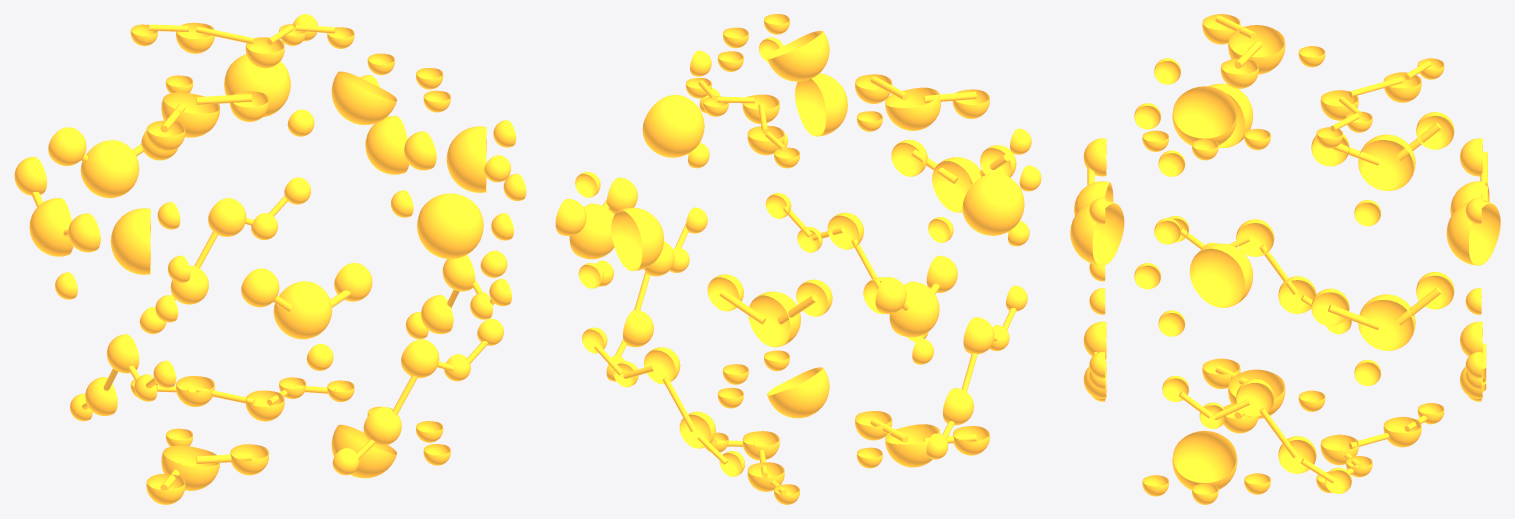
File: goldore.fbx
The picture shows the model from 3 angles, left to right: view 1: azimuth 30°, elevation 25°; view 2: azimuth 150°, elevation 25°; view 3: azimuth 270°, elevation 25°; orthographic projection. The views are drawn at different scales.
Parts seen in each view (by area): view 1: Sphere__9__4, Sphere__1__1, Sphere__1__5, Sphere__9__2, Sphere__9_, Sphere__9__1, Sphere__9__3, Sphere__1__4, Sphere__1__2, Sphere__9__5, Sphere__1__6, Sphere__1__3 (+30 smaller); view 2: Sphere__9__3, Sphere__9__1, Sphere__9_, Sphere__9__4, Sphere__9__2, Sphere__9__5, Sphere__1__1, Sphere__1__2, Sphere__1__3, Sphere__1__4, Sphere__1__5, Sphere__1__6 (+25 smaller); view 3: Sphere__9__3, Sphere__9__2, Sphere__9__5, Sphere__9_, Sphere__9__4, Sphere__1__2, Sphere__1__4, Sphere__1__3, Sphere__9__1, Sphere__6__3, Sphere__6__1, Sphere__1__6 (+38 smaller).
Boxes of the visible parts, x1,y1,x2,y2 form: Sphere__9__4: [417, 193, 483, 259]; Sphere__1__1: [80, 140, 139, 198]; Sphere__1__5: [273, 281, 332, 339]; Sphere__9__2: [331, 71, 396, 124]; Sphere__9_: [224, 54, 290, 117]; Sphere__9__1: [110, 208, 150, 274]; Sphere__9__3: [446, 126, 486, 192]; Sphere__1__4: [365, 116, 409, 174]; Sphere__1__2: [29, 198, 73, 256]; Sphere__9__5: [331, 424, 396, 478]; Sphere__1__6: [161, 445, 220, 490]; Sphere__1__3: [161, 92, 220, 137]; Sphere__9__3: [642, 94, 704, 157]; Sphere__9__1: [962, 173, 1024, 235]; Sphere__9_: [611, 207, 663, 271]; Sphere__9__4: [795, 73, 847, 136]; Sphere__9__2: [767, 30, 829, 81]; Sphere__9__5: [767, 367, 829, 418]; Sphere__1__1: [748, 291, 800, 347]; Sphere__1__2: [889, 281, 939, 337]; Sphere__1__3: [885, 87, 940, 130]; Sphere__1__4: [569, 203, 614, 259]; Sphere__1__5: [932, 157, 981, 212]; Sphere__1__6: [885, 424, 940, 467]; Sphere__9__3: [1189, 243, 1253, 307]; Sphere__9__2: [1172, 86, 1237, 145]; Sphere__9__5: [1172, 430, 1237, 490]; Sphere__9_: [1446, 201, 1500, 265]; Sphere__9__4: [1070, 201, 1124, 265]; Sphere__1__2: [1358, 134, 1415, 190]; Sphere__1__4: [1358, 294, 1415, 350]; Sphere__1__3: [1228, 25, 1285, 74]; Sphere__9__1: [1208, 83, 1253, 148]; Sphere__6__3: [1236, 379, 1274, 416]; Sphere__6__1: [1236, 219, 1274, 256]; Sphere__1__6: [1228, 369, 1285, 418].
Size of the model in its own units: 119 by 119 by 118.
